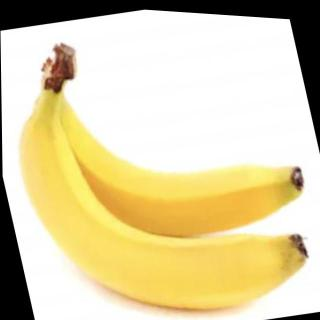banana: (6, 66, 320, 320), (31, 56, 316, 270)
